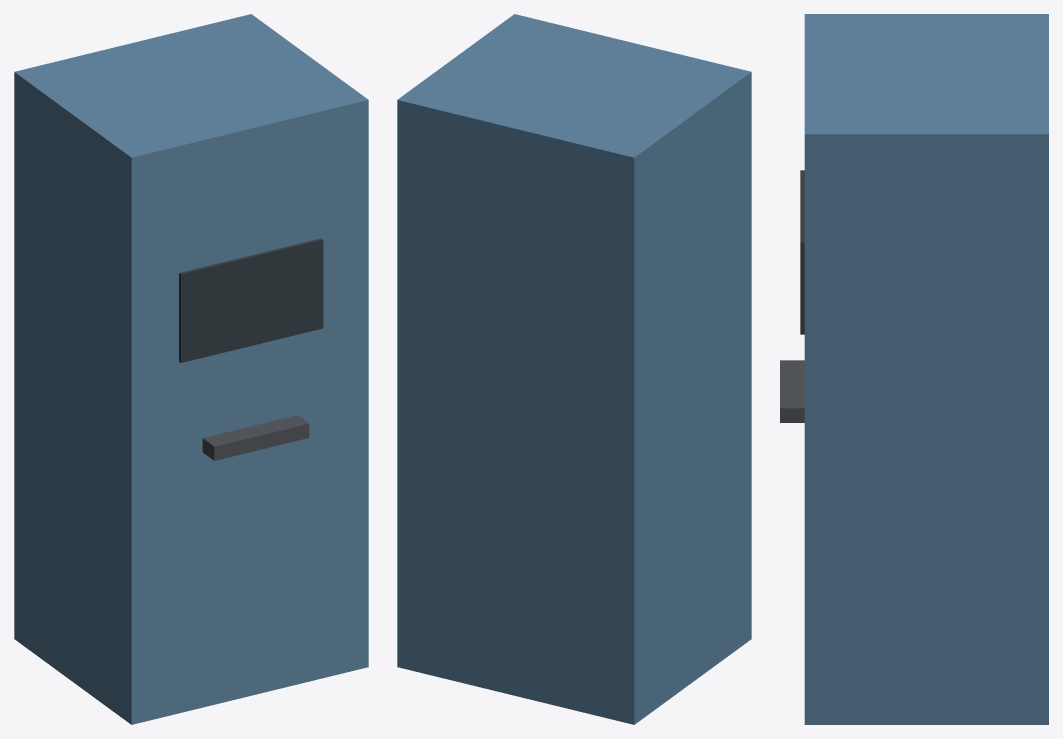
Rendered from 1772-Furniture-interiors-atm.glb.
3 views of the same model, side by side, from view 1: azimuth 30°, elevation 25°; view 2: azimuth 150°, elevation 25°; view 3: azimuth 270°, elevation 25° (orthographic). The views are drawn at different scales.
Visible parts, largest first — view 1: Furniture (interiors)/atm; view 2: Furniture (interiors)/atm; view 3: Furniture (interiors)/atm.
Boxes of the visible parts, x1,y1,x2,y2 form: Furniture (interiors)/atm: (14,14,368,724); Furniture (interiors)/atm: (397,14,751,724); Furniture (interiors)/atm: (780,14,1048,724).
Size of the model in its own units: 0.7 by 1.6 by 0.66.
